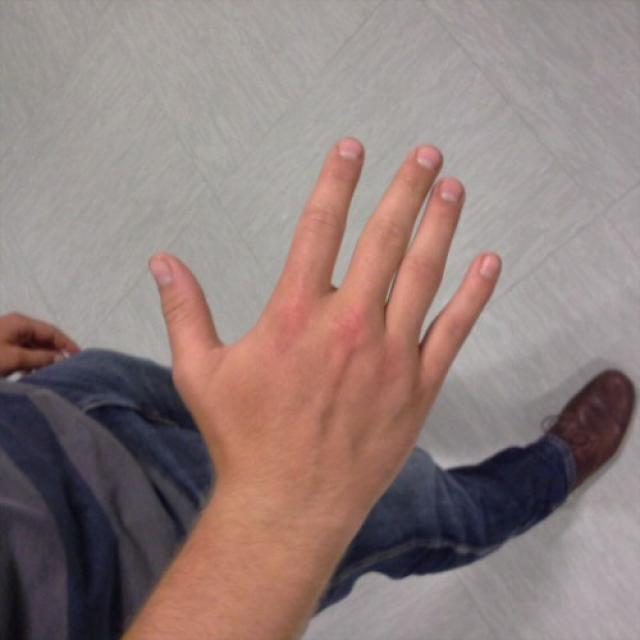paper: (144, 134, 503, 497)
